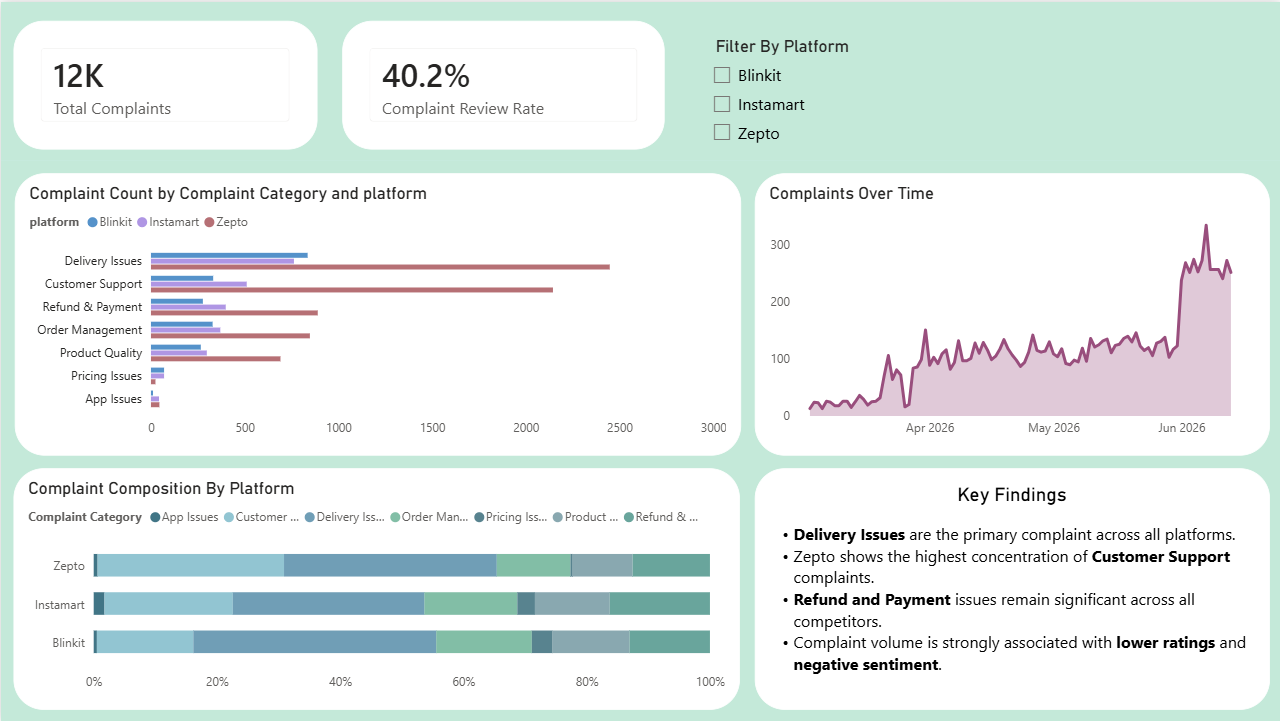

What the dashboard file says about the page in this screenshot:
{"tool":"powerbi","page":{"name":"Complaint Intelligence","canvas":[1280,720],"ordinal":1},"visuals":[{"type":"shape","box":[0,0,1280,158.8],"z":0},{"type":"shape","box":[0,158.8,1280,561.2],"z":1000},{"type":"clusteredBarChart","fields":{"Category":["QuickCommerce_Complaints.Complaint Category"],"Y":["QuickCommerce_Complaints.Complaint Count"],"Series":["Platform.platform"]},"box":[13.8,171.2,726.2,282.5],"z":2000},{"type":"hundredPercentStackedBarChart","title":"Complaint Composition By Platform","fields":{"Category":["Platform.platform"],"Series":["QuickCommerce_Complaints.Complaint Category"],"Y":["QuickCommerce_Complaints.Complaint Count"]},"box":[12.5,466.2,726.2,241.2],"z":3000},{"type":"cardVisual","fields":{"Data":["QuickCommerce_Complaints.Total Complaints"]},"box":[12.5,18.8,303.8,128.8],"z":4000},{"type":"cardVisual","fields":{"Data":["QuickCommerce_Complaints.Complaint Rate %"]},"box":[341.2,18.8,322.5,128.8],"z":5000},{"type":"textbox","box":[753.8,466.2,515,241.2],"z":6000},{"type":"slicer","title":"Filter By Platform","fields":{"Values":["Platform.platform"]},"box":[700,28.8,162.5,142.5],"z":7000},{"type":"lineChart","title":"Complaints Over Time","fields":{"Category":["QuickCommerce_Complaints.Date/Time.Variation.Date Hierarchy.Year","QuickCommerce_Complaints.Date/Time.Variation.Date Hierarchy.Quarter","QuickCommerce_Complaints.Date/Time.Variation.Date Hierarchy.Month","QuickCommerce_Complaints.Date/Time.Variation.Date Hierarchy.Day"],"Y":["QuickCommerce_Complaints.Complaint Count"]},"box":[753.8,171.2,515,282.5],"z":8000}]}

Visuals, with their boxes in screenshot pixels (x1, y1, x2, y2), scaled from the page's 1280x720 canvas onto the 1280x721 screenshot:
shape: bbox(0, 0, 1279, 159)
shape: bbox(0, 159, 1279, 720)
clusteredBarChart - QuickCommerce_Complaints.Complaint Category x QuickCommerce_Complaints.Complaint Count: bbox(14, 171, 740, 454)
"Complaint Composition By Platform" hundredPercentStackedBarChart: bbox(12, 467, 739, 708)
cardVisual - QuickCommerce_Complaints.Total Complaints: bbox(12, 19, 316, 148)
cardVisual - QuickCommerce_Complaints.Complaint Rate %: bbox(341, 19, 664, 148)
textbox: bbox(754, 467, 1269, 708)
"Filter By Platform" slicer: bbox(700, 29, 862, 172)
"Complaints Over Time" lineChart: bbox(754, 171, 1269, 454)
